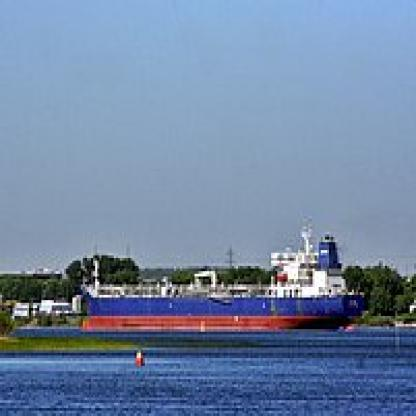Tanker: (83, 210, 370, 340)
